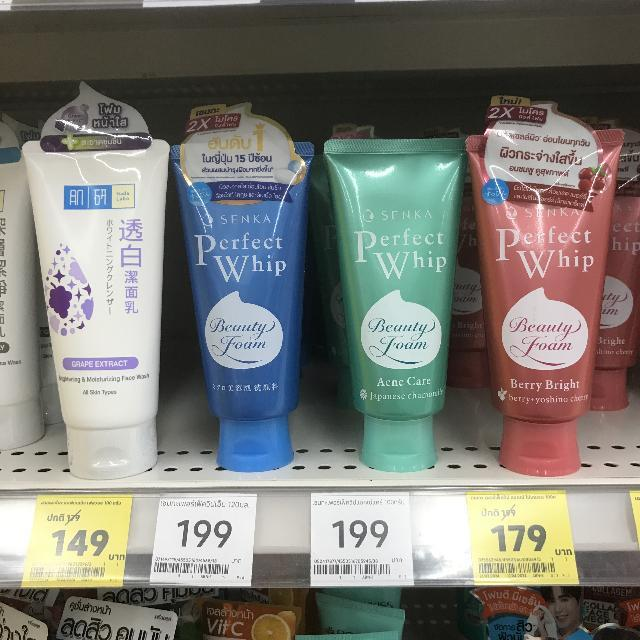Squeeze Tube: (461, 114, 635, 482), (17, 120, 177, 490), (169, 124, 314, 482), (323, 114, 453, 482)
